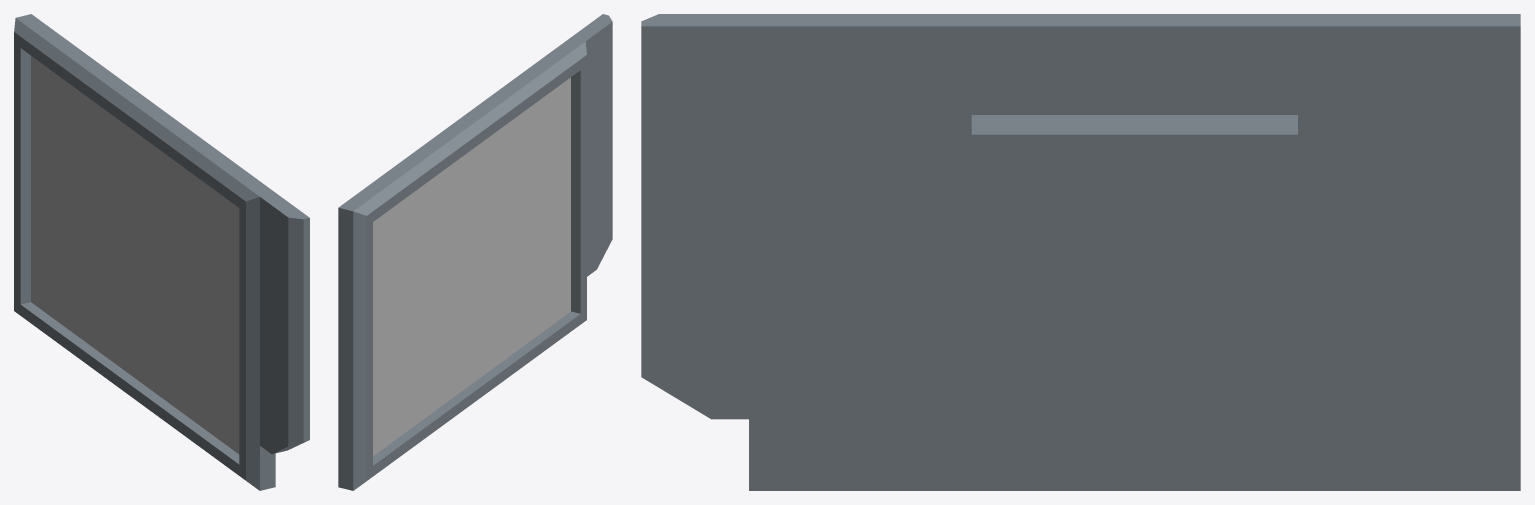
Rendered from Monitor3.fbx.
The picture shows the model from 3 angles, left to right: view 1: azimuth 30°, elevation 25°; view 2: azimuth 150°, elevation 25°; view 3: azimuth 270°, elevation 25°; orthographic projection. The views are drawn at different scales.
Parts seen in each view (by area): view 1: Monitor3Screen, Monitor3; view 2: Monitor3Screen, Monitor3; view 3: Monitor3.
Boxes of the visible parts, x1,y1,x2,y2 form: Monitor3Screen: (31, 56, 239, 454); Monitor3: (14, 14, 309, 490); Monitor3Screen: (373, 77, 570, 455); Monitor3: (338, 14, 612, 490); Monitor3: (641, 14, 1520, 490).
Bounding box in the file's own units: 19.39 × 111 × 190.
